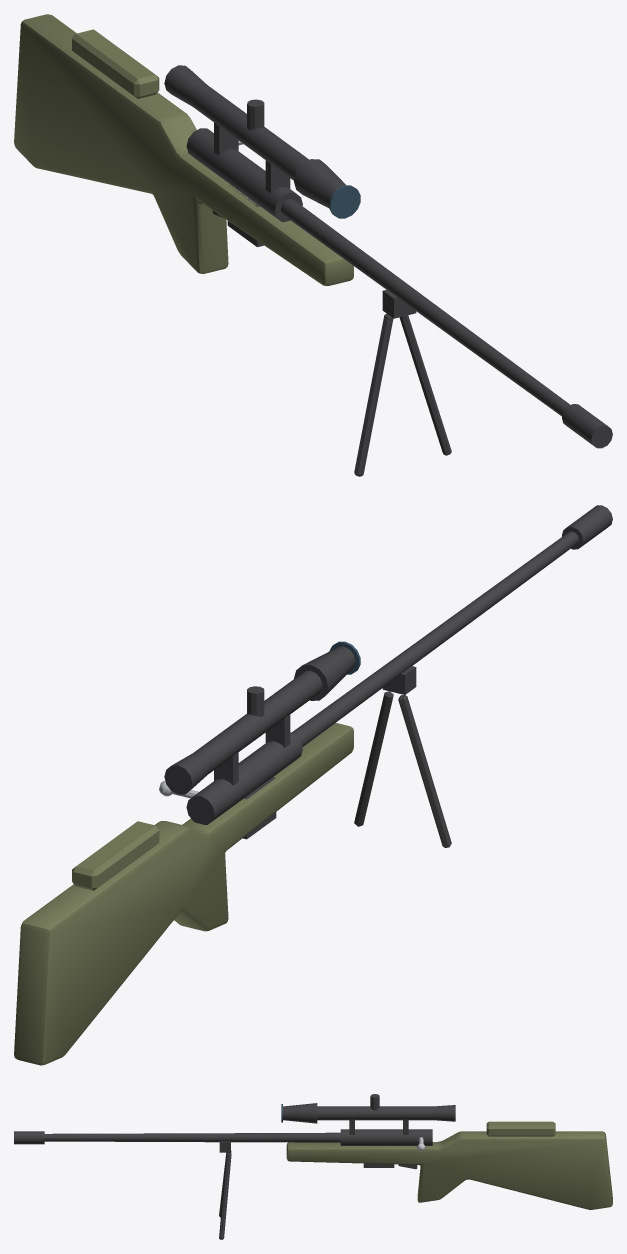
File: sniper.glb
3 views of the same model, one above another, from view 1: azimuth 30°, elevation 25°; view 2: azimuth 150°, elevation 25°; view 3: azimuth 270°, elevation 25° (orthographic). The views are drawn at different scales.
Visible parts, largest first — view 1: sniper_mesh; view 2: sniper_mesh; view 3: sniper_mesh.
Part boxes in pixels (x1,y1,x2,y2): sniper_mesh: (14,14,612,476); sniper_mesh: (14,505,612,1065); sniper_mesh: (14,1094,612,1239).
Size of the model in its own units: 0.1566 by 0.3809 by 1.56.
